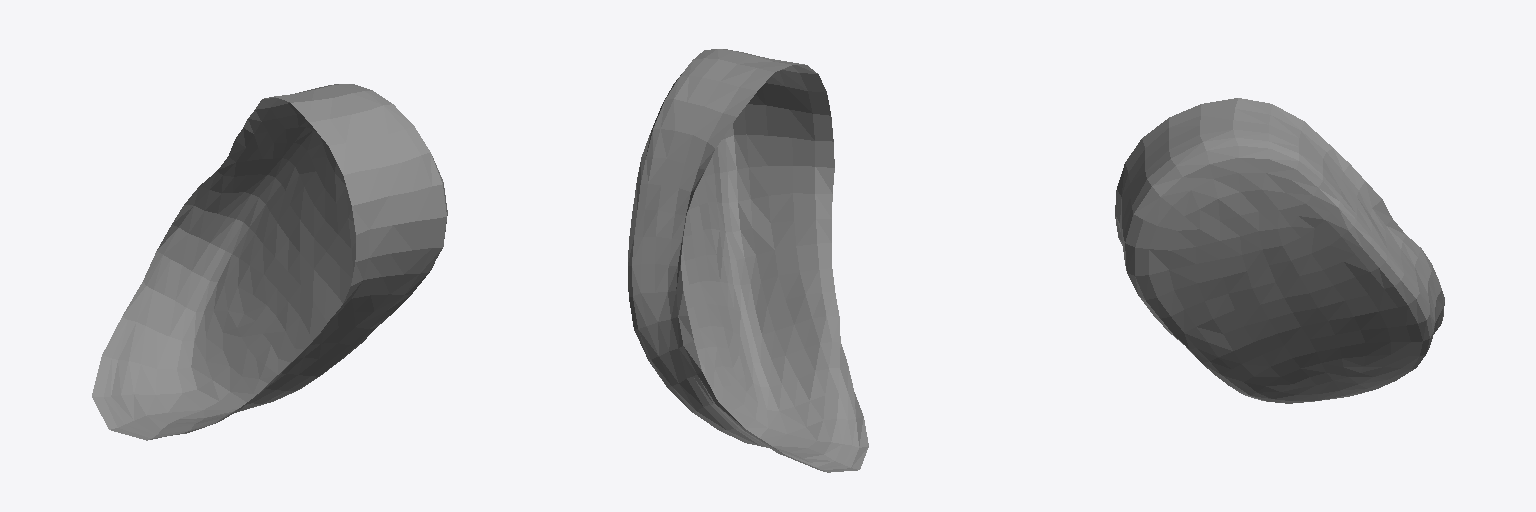
File: left_grip.obj
3 views of the same model, side by side, from view 1: azimuth 30°, elevation 25°; view 2: azimuth 150°, elevation 25°; view 3: azimuth 270°, elevation 25° (orthographic).
Visible parts, largest first — view 1: left_grip; view 2: left_grip; view 3: left_grip.
Boxes of the visible parts, x1,y1,x2,y2 form: left_grip: [92, 84, 447, 440]; left_grip: [628, 49, 868, 472]; left_grip: [1115, 98, 1444, 403].
Size of the model in its own units: 0.0163 by 0.0215 by 0.0195.